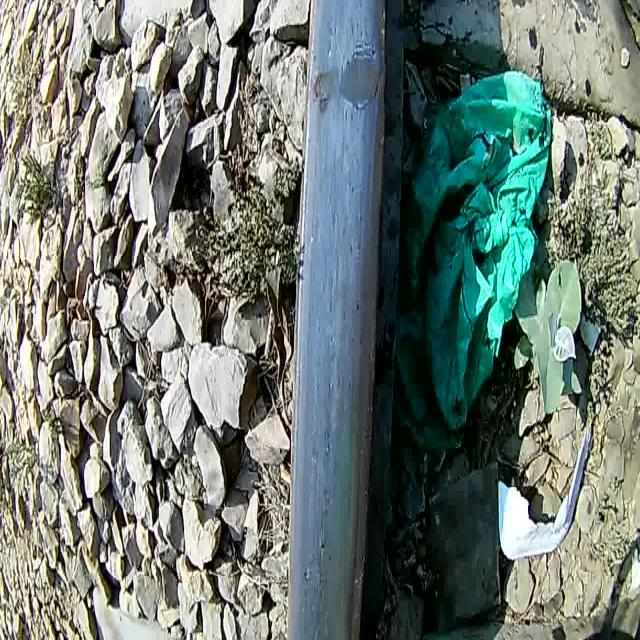Squats: (262, 0, 411, 640)
